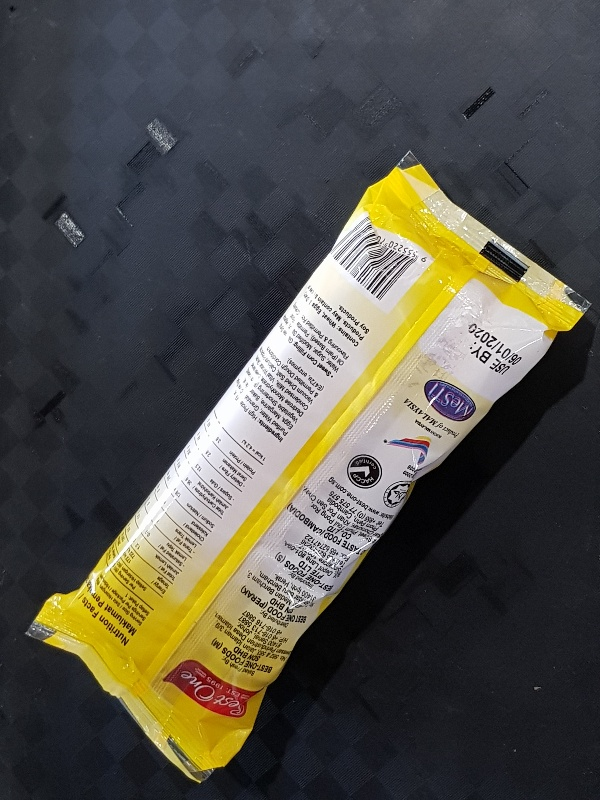Tinges Roll Sweet Corn: (24, 147, 591, 785)
